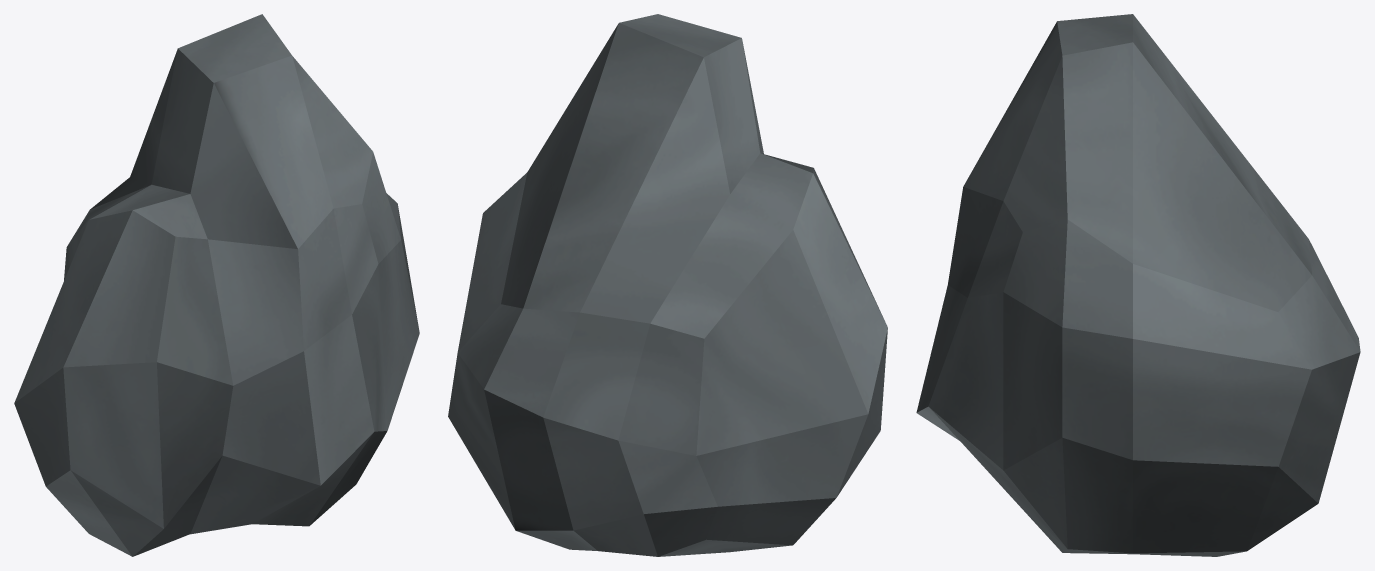
File: Rock_Small.fbx
The picture shows the model from 3 angles, left to right: view 1: azimuth 30°, elevation 25°; view 2: azimuth 150°, elevation 25°; view 3: azimuth 270°, elevation 25°; orthographic projection. The views are drawn at different scales.
Parts seen in each view (by area): view 1: Rock_Small; view 2: Rock_Small; view 3: Rock_Small.
Boxes of the visible parts, bbox=[...] form: Rock_Small: bbox=[14, 14, 419, 556]; Rock_Small: bbox=[448, 14, 887, 556]; Rock_Small: bbox=[916, 14, 1360, 556].
Bounding box in the file's own units: 1123 × 1383 × 1083.
